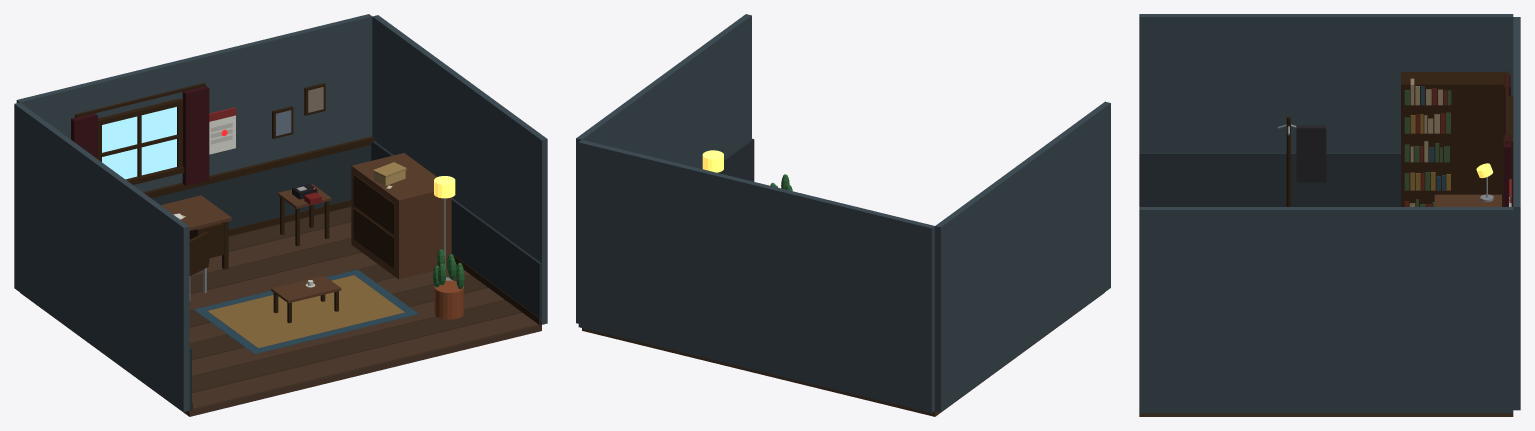
Rendered from apartment.glb.
3 renders of one model, left to right at view 1: azimuth 30°, elevation 25°; view 2: azimuth 150°, elevation 25°; view 3: azimuth 270°, elevation 25°, orthographic. The views are drawn at different scales.
Parts seen in each view (by area): view 1: WallLeft, WallBack, WallRight, ShelfUnit, BandBack, RugBorder, Plank0, BandRight, Plank1, ApWinGlass, Plank2, Plank6 (+23 smaller); view 2: WallBack, WallLeft, WallRight, Floor, BandRight; view 3: WallRight, WallLeft, BandLeft, Bookcase, WallBack, HangingCoat, Floor, DeskTop, CurtainR, RackPole.
Boxes of the visible parts, x1=… form: WallLeft: x1=14, y1=102, x2=189, y2=411; WallBack: x1=16, y1=14, x2=372, y2=191; WallRight: x1=372, y1=15, x2=547, y2=324; ShelfUnit: x1=351, y1=153, x2=451, y2=279; BandBack: x1=151, y1=145, x2=371, y2=229; RugBorder: x1=208, y1=275, x2=404, y2=348; Plank0: x1=192, y1=312, x2=538, y2=409; BandRight: x1=371, y1=141, x2=541, y2=324; Plank1: x1=192, y1=300, x2=521, y2=392; ApWinGlass: x1=102, y1=107, x2=176, y2=179; Plank2: x1=192, y1=287, x2=504, y2=376; Plank6: x1=189, y1=252, x2=378, y2=310; WallBack: x1=578, y1=140, x2=934, y2=413; WallLeft: x1=935, y1=101, x2=1110, y2=411; WallRight: x1=576, y1=14, x2=751, y2=323; Floor: x1=582, y1=292, x2=1104, y2=416; BandRight: x1=717, y1=138, x2=754, y2=181; WallRight: x1=1139, y1=207, x2=1513, y2=413; WallLeft: x1=1139, y1=14, x2=1513, y2=152; BandLeft: x1=1139, y1=152, x2=1400, y2=206; Bookcase: x1=1401, y1=72, x2=1505, y2=206; WallBack: x1=1513, y1=17, x2=1520, y2=410; HangingCoat: x1=1296, y1=125, x2=1326, y2=182; Floor: x1=1139, y1=413, x2=1513, y2=416; DeskTop: x1=1434, y1=194, x2=1501, y2=206; CurtainR: x1=1503, y1=134, x2=1510, y2=206; RackPole: x1=1286, y1=116, x2=1290, y2=206.
Size of the model in its own units: 6.2 by 3.1 by 5.1.
